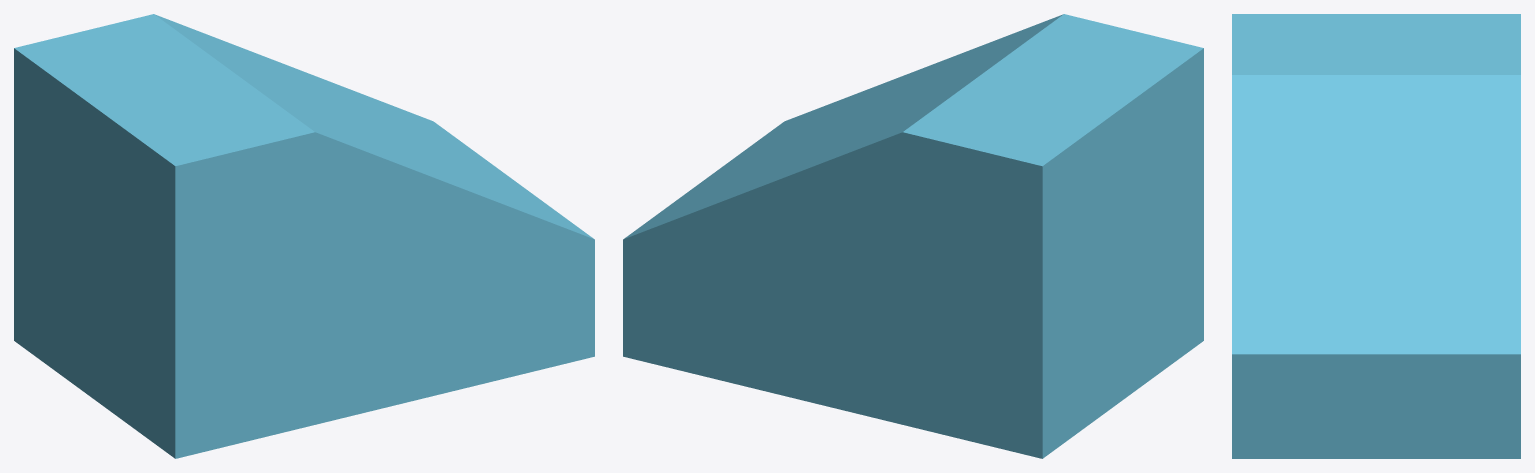
File: spacestation_structure_fuselage_straight_normal.glb
3 views of the same model, side by side, from view 1: azimuth 30°, elevation 25°; view 2: azimuth 150°, elevation 25°; view 3: azimuth 270°, elevation 25° (orthographic). The views are drawn at different scales.
Size of the model in its own units: 1.5 by 1 by 1.
